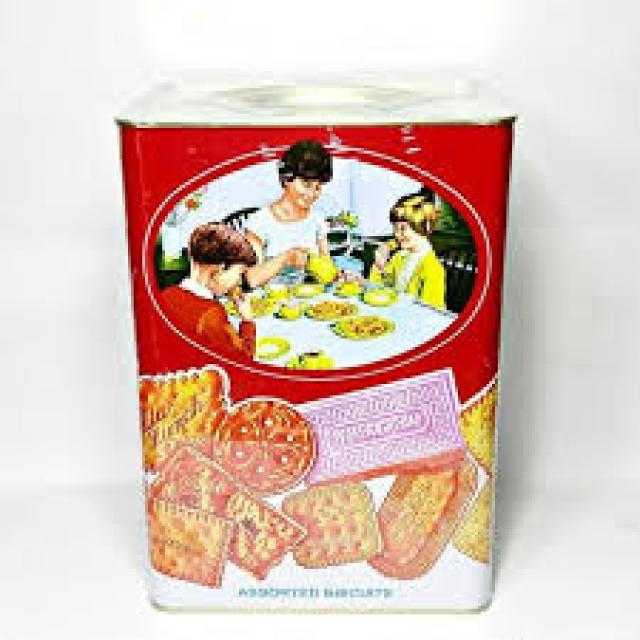Kaleng: (114, 72, 520, 620)
